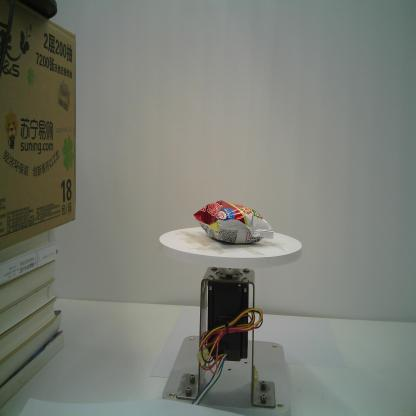Dessert: (191, 197, 276, 246)
